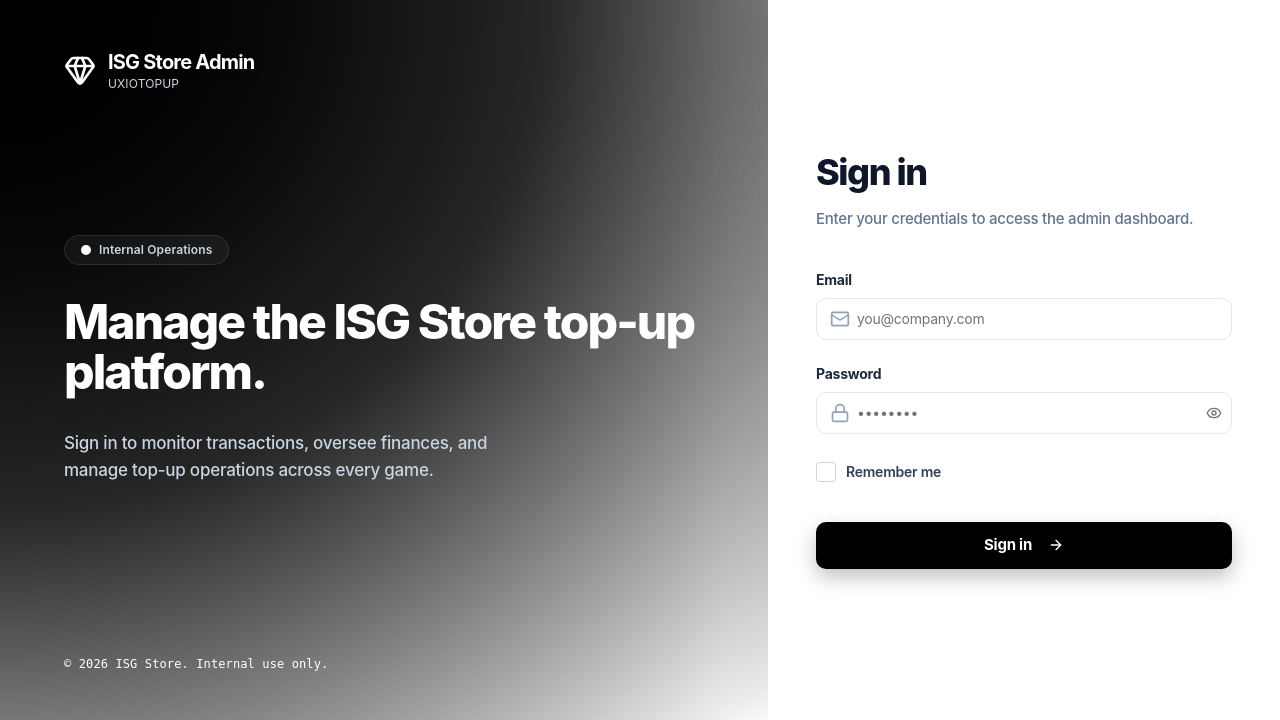
Test: LoginPage › shows a pending accessible name on submit while the login mutation is in flight
Type "admin@isgstore.id" into the field labelled "Email" at (1024, 319), box [816, 298, 1232, 340]
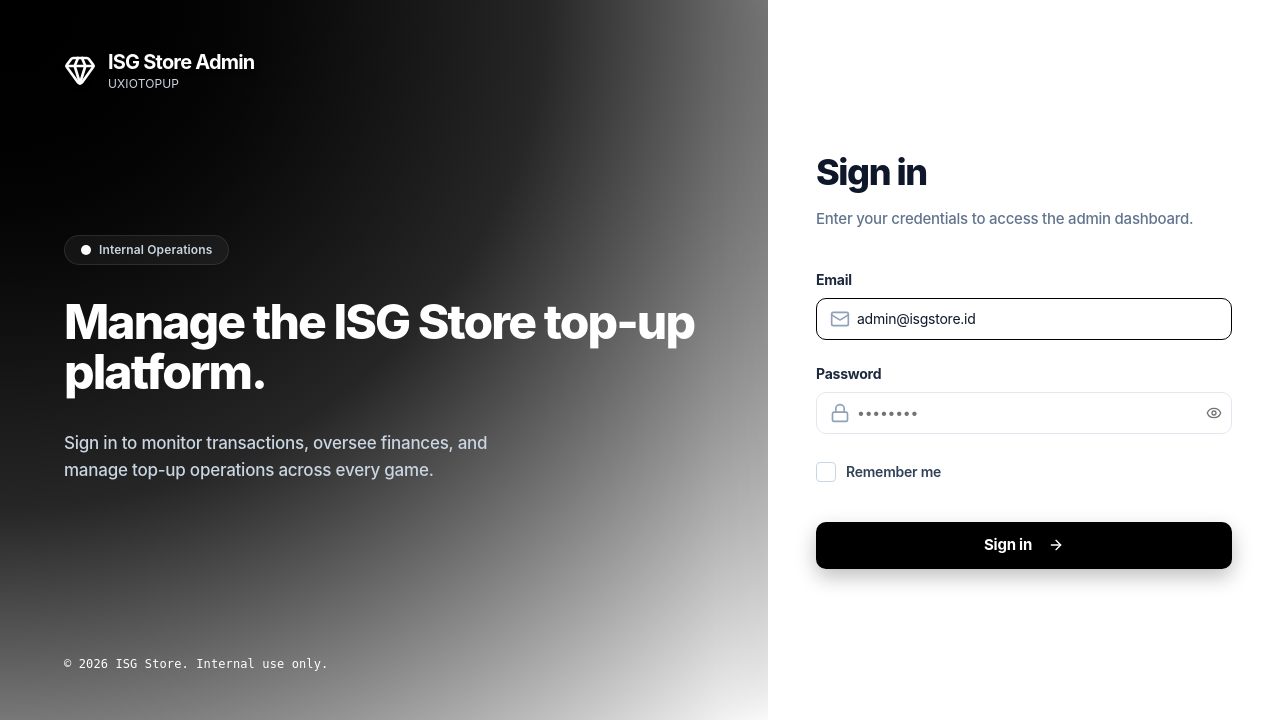
Type "password123" into the password field labelled "Password" at (1024, 413), box [816, 392, 1232, 434]
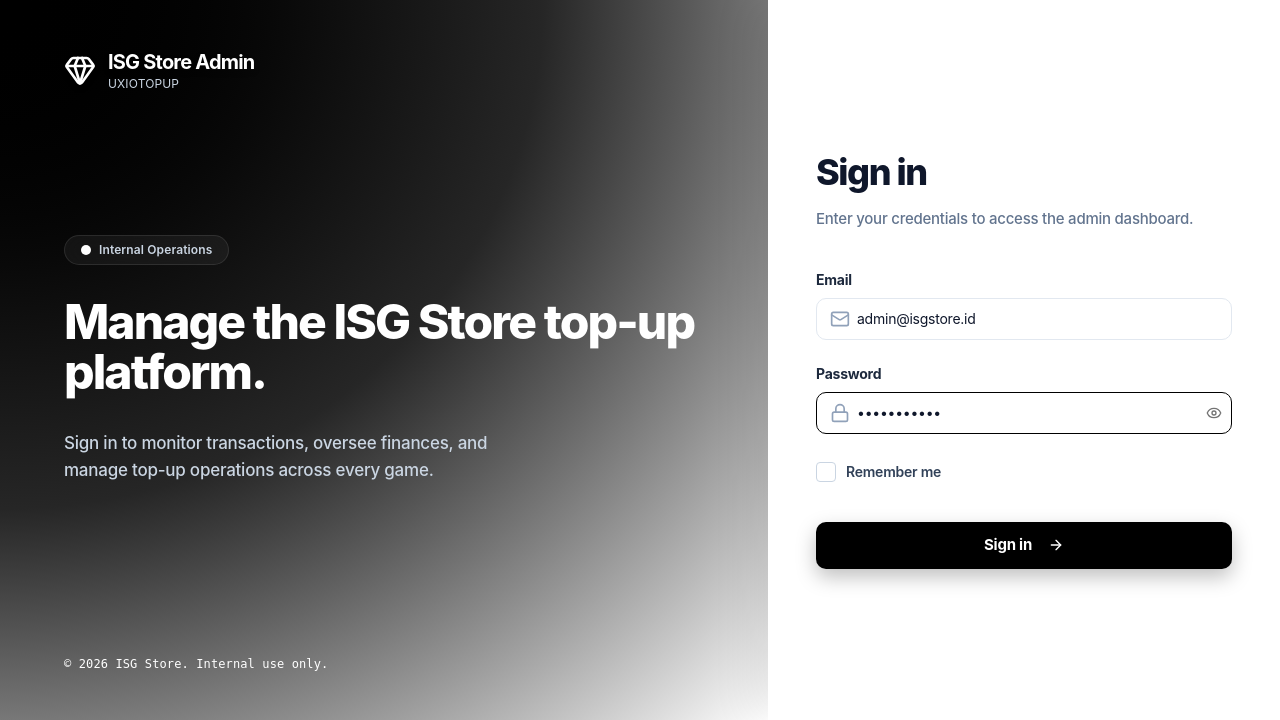
Click the button "Sign in" at (1024, 545), box [816, 522, 1232, 568]
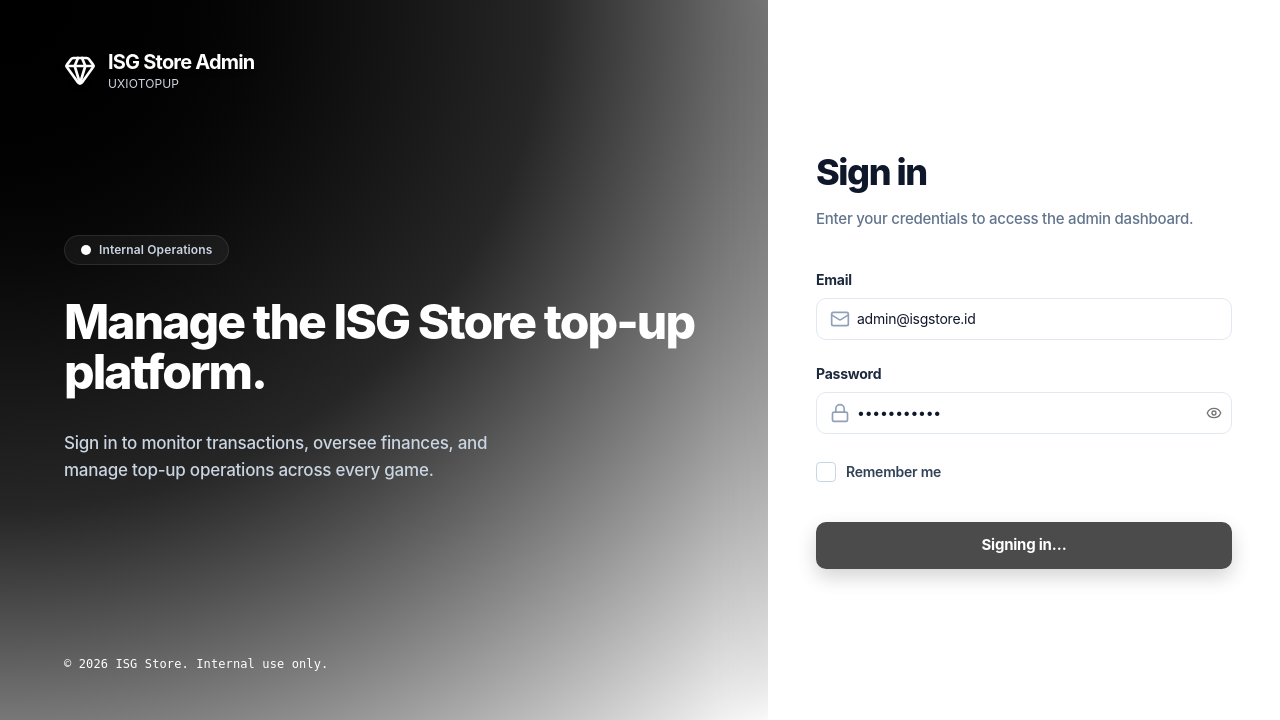
Expected: the button "Signing in…" is shown, [816, 522, 1232, 568]
